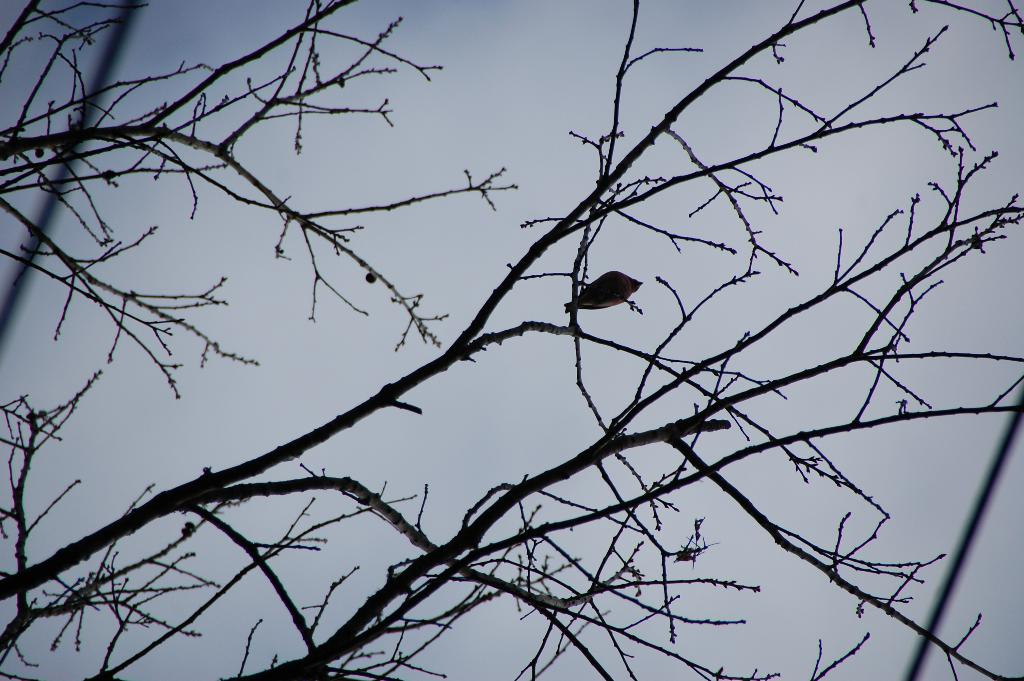Tree: (0, 8, 958, 681)
